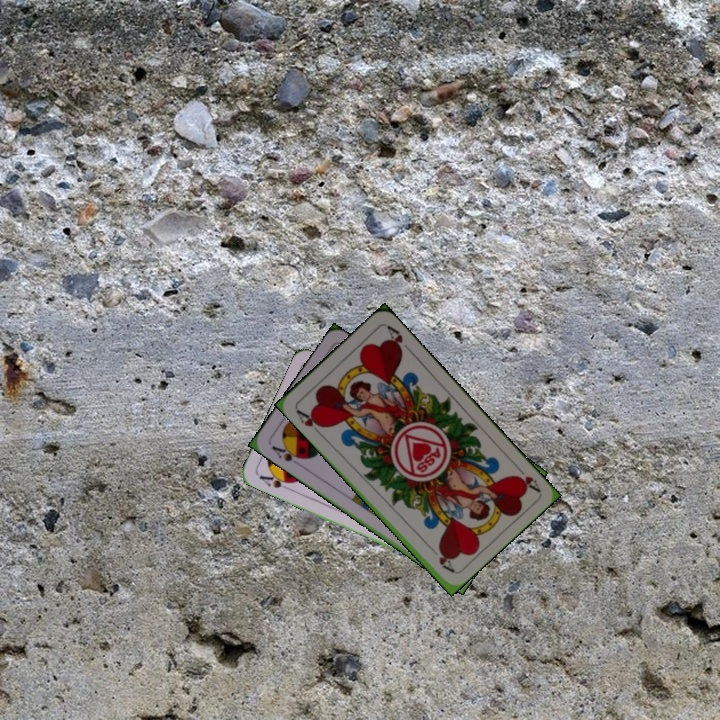HA: (292, 405, 327, 437), (510, 460, 542, 494)
SA: (267, 440, 306, 469), (255, 468, 296, 493)
